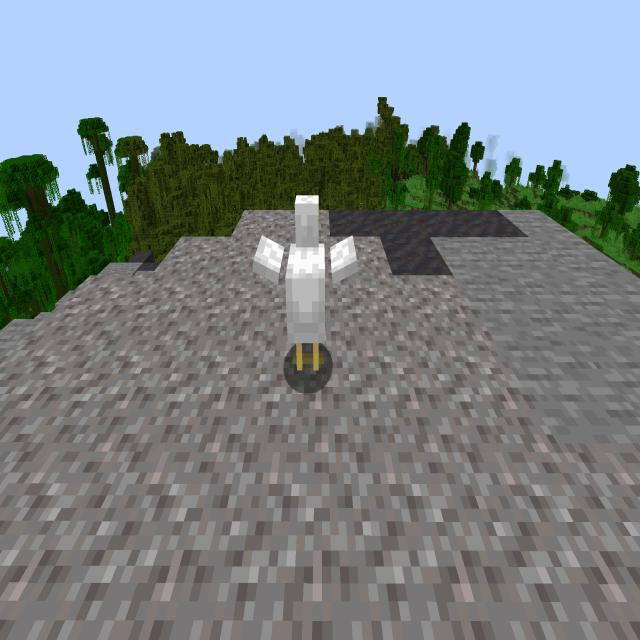chicken: (244, 173, 363, 404)
